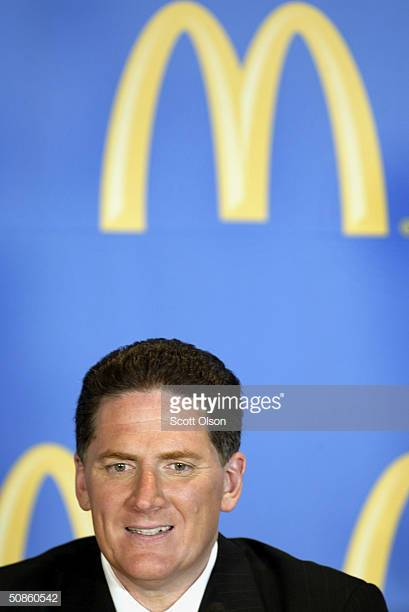mcdonalds: (98, 0, 392, 233)
